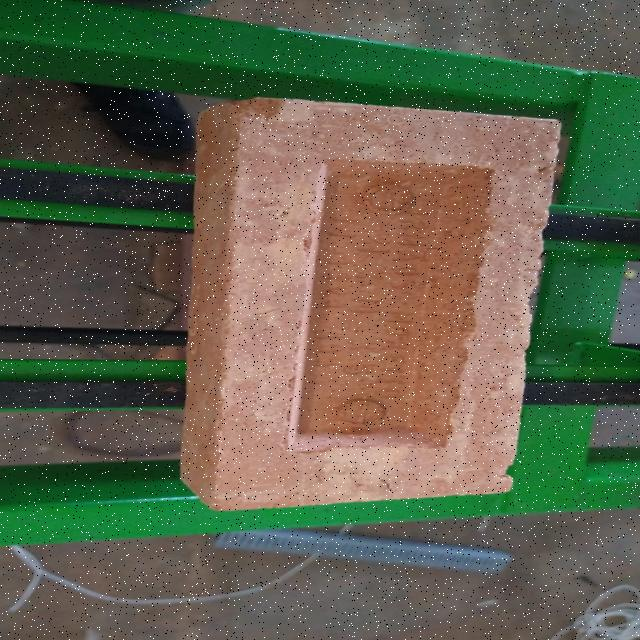bricks: (179, 100, 563, 513)
